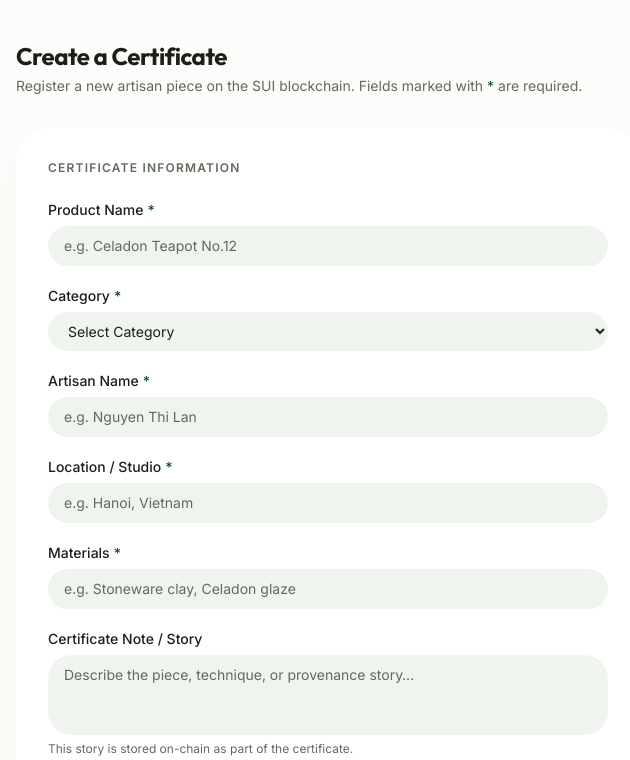
Scenario: CreatePage › enables mint button when required fields are filled
The image size is (630, 760).
Type "Celadon Vase" into the field labelled "Product Name*" at (328,246), box 48,226 -> 608,266
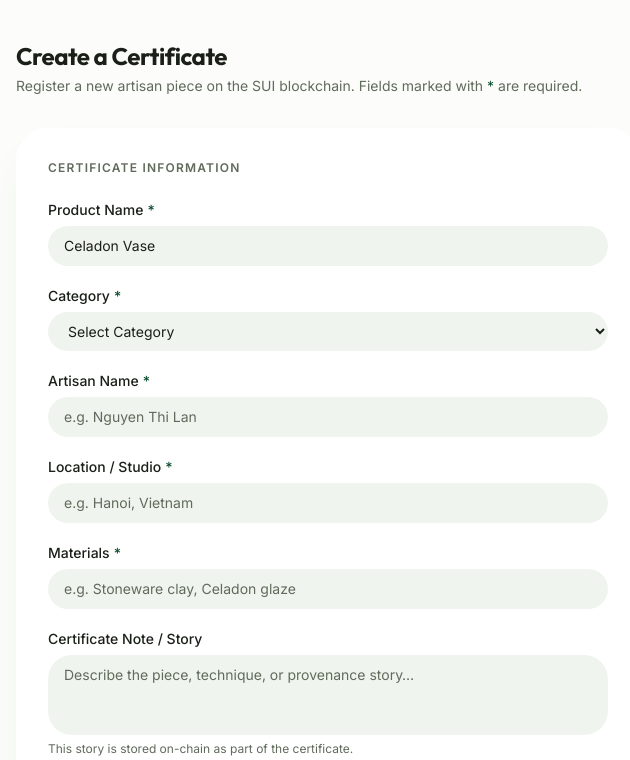
Select "Ceramics" in the dropdown labelled "Category*" at (328,332), box 48,312 -> 608,351
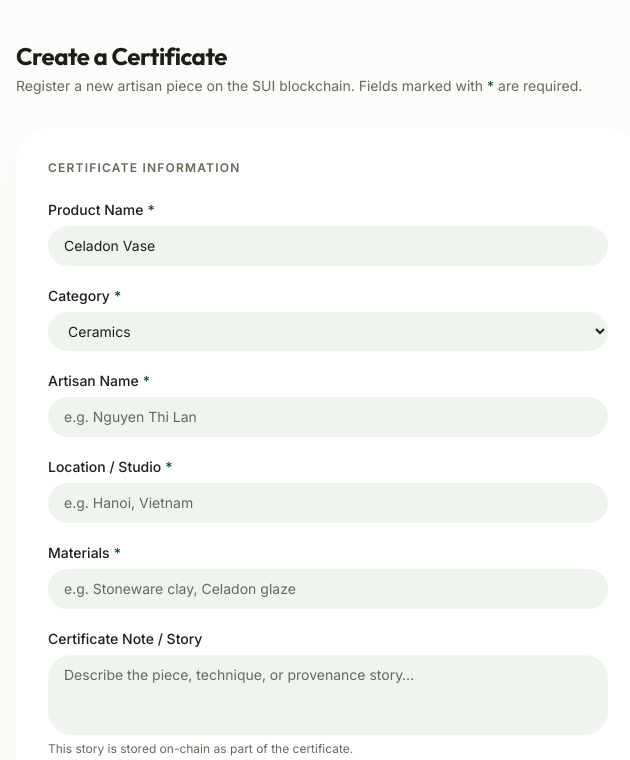
Type "Jane Doe" into the field labelled "Artisan Name*" at (328,417), box 48,397 -> 608,437
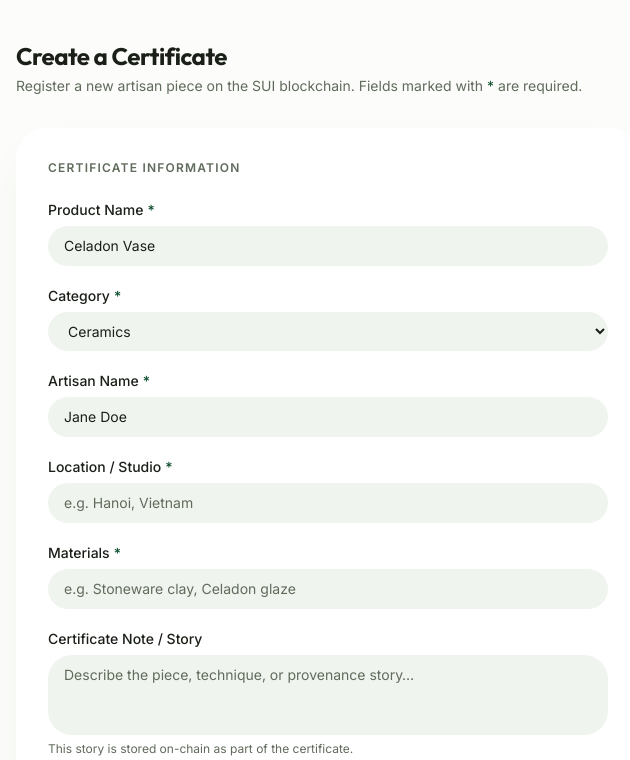
Type "Hanoi" into the field labelled "Location / Studio*" at (328,503), box 48,483 -> 608,523
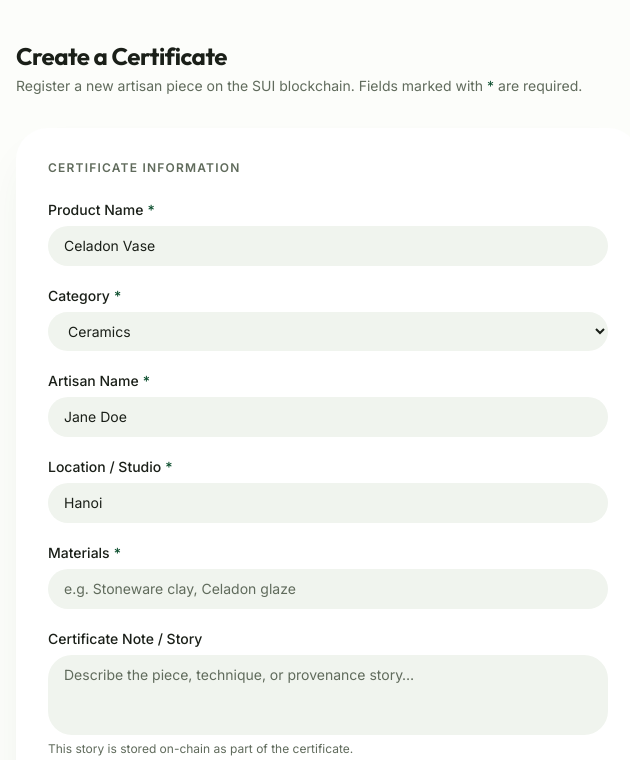
Type "Clay" into the field labelled "Materials*" at (328,589), box 48,569 -> 608,609
(page scrolled)
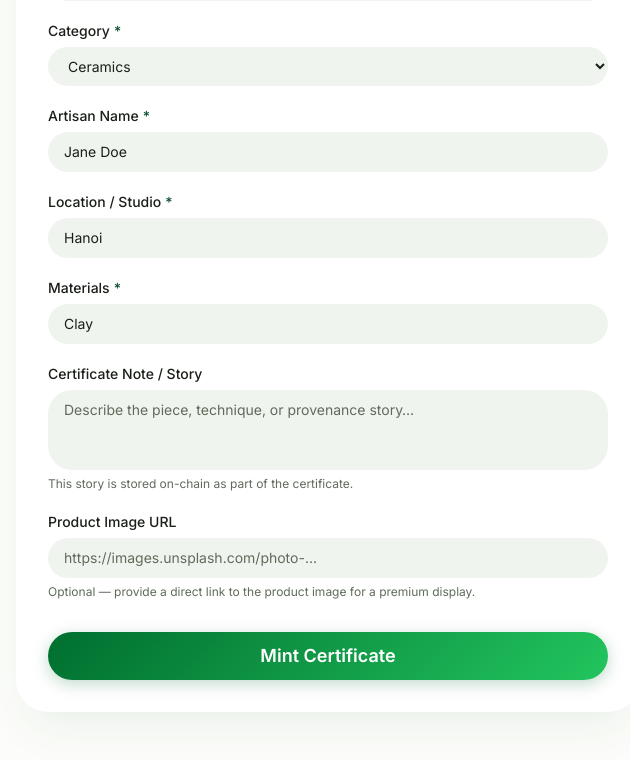
Now the button "Mint Certificate" is enabled, box 48,632 -> 608,680
